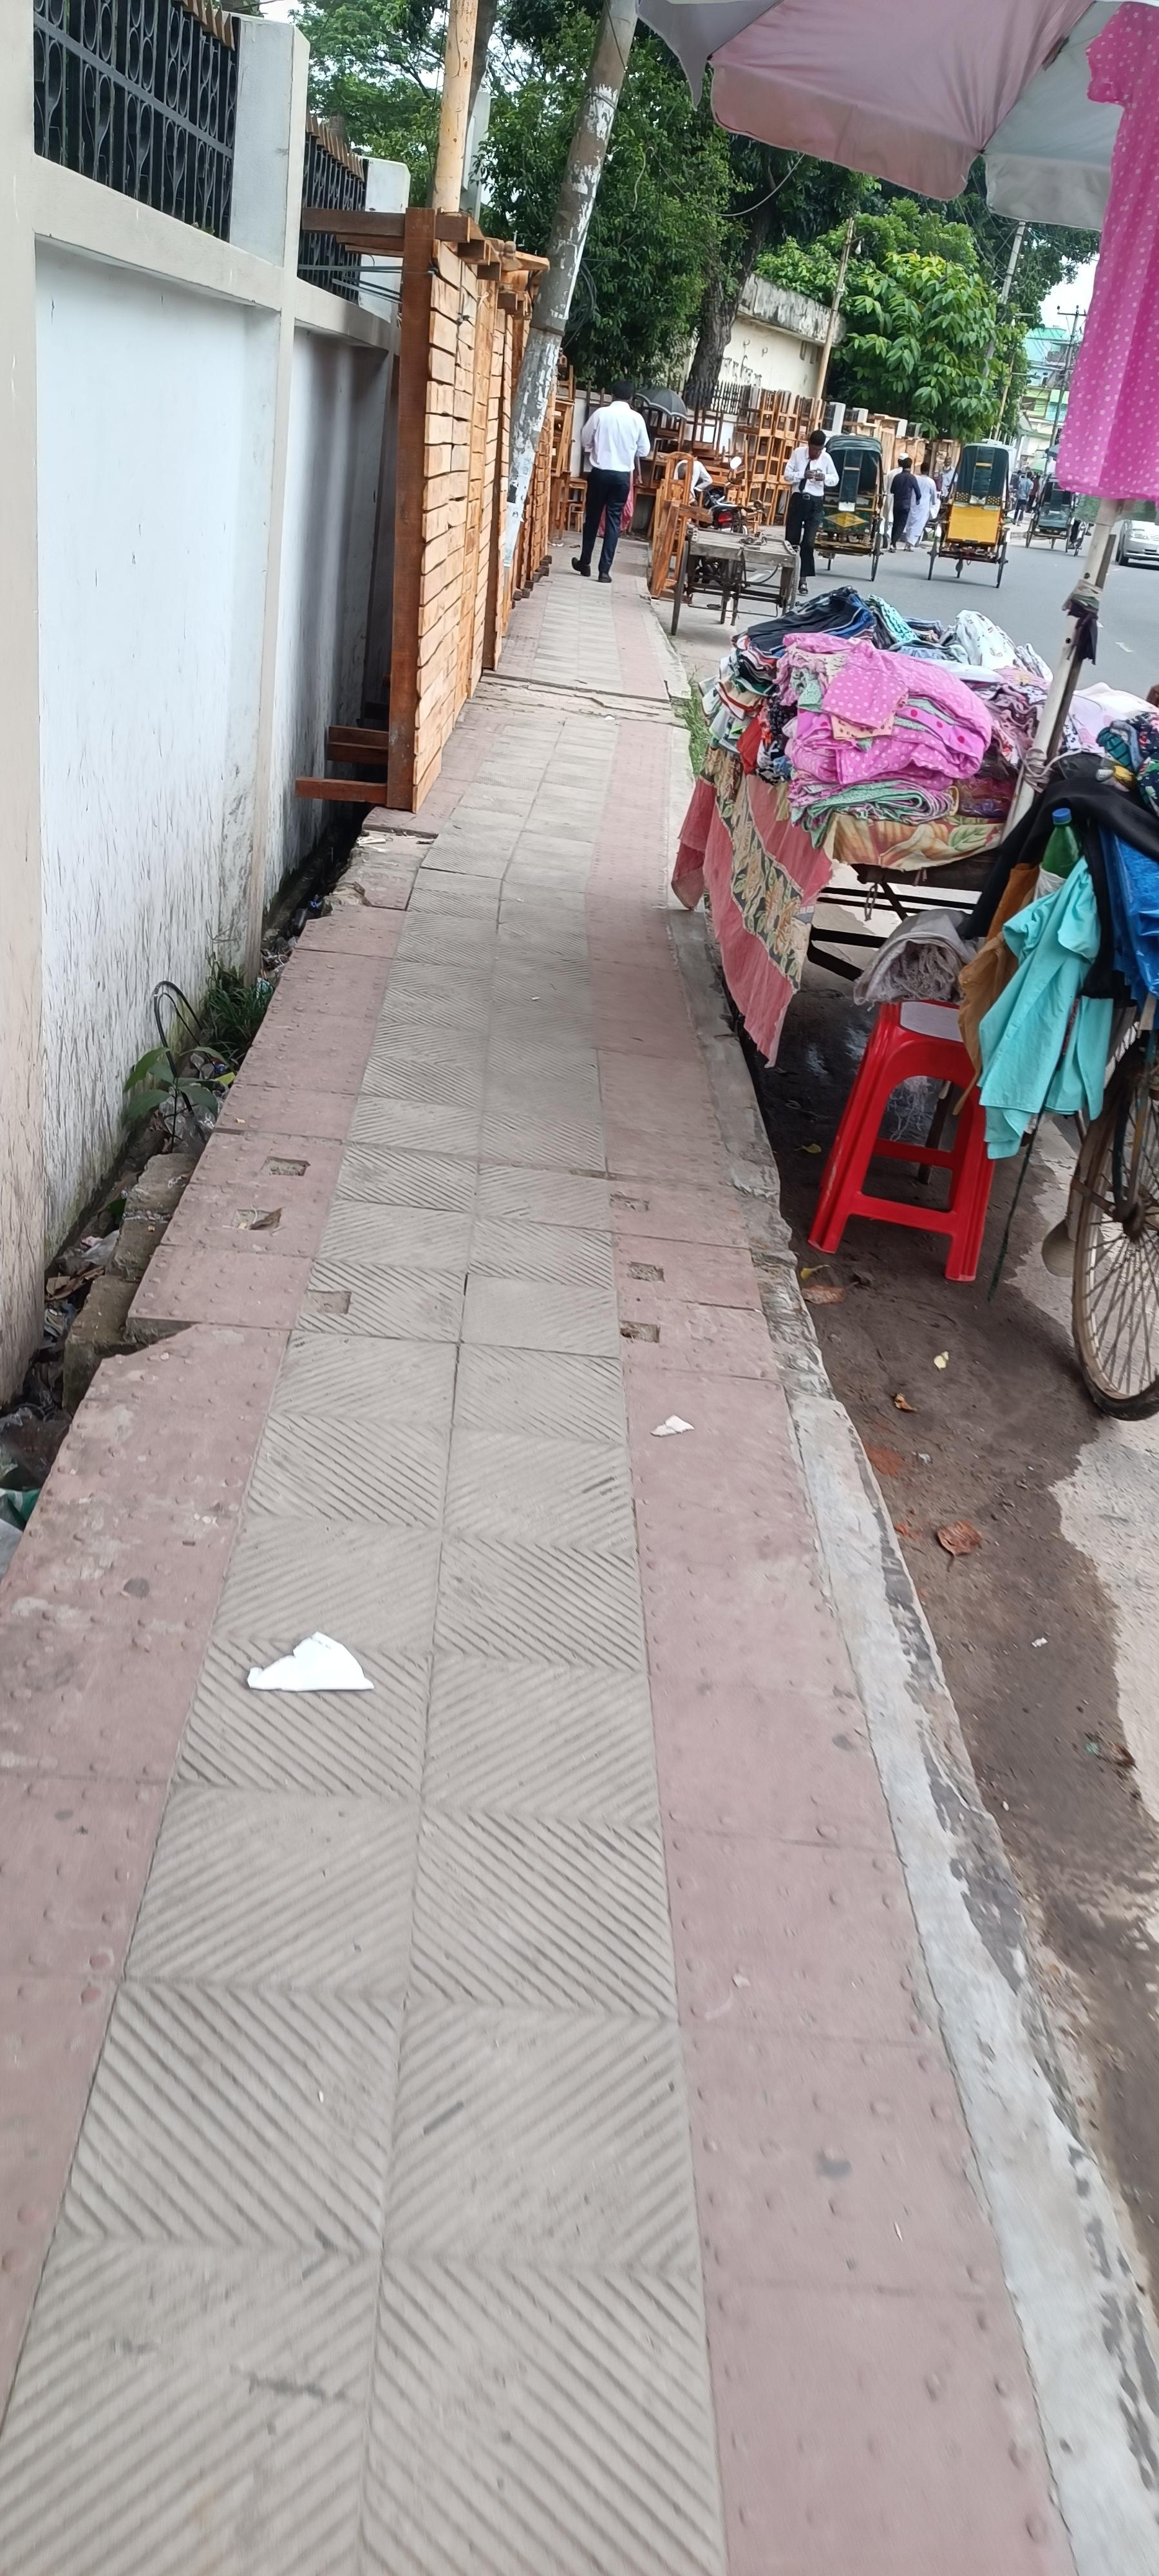Garbage-bin: (571, 378, 652, 582), (781, 429, 841, 590), (888, 458, 919, 550)
Pothole: (5, 496, 1138, 2571)
